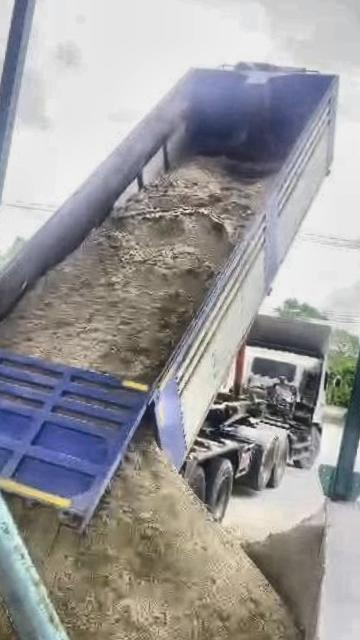sand: (0, 159, 267, 382), (12, 433, 299, 640), (247, 512, 323, 635), (0, 527, 54, 640)
